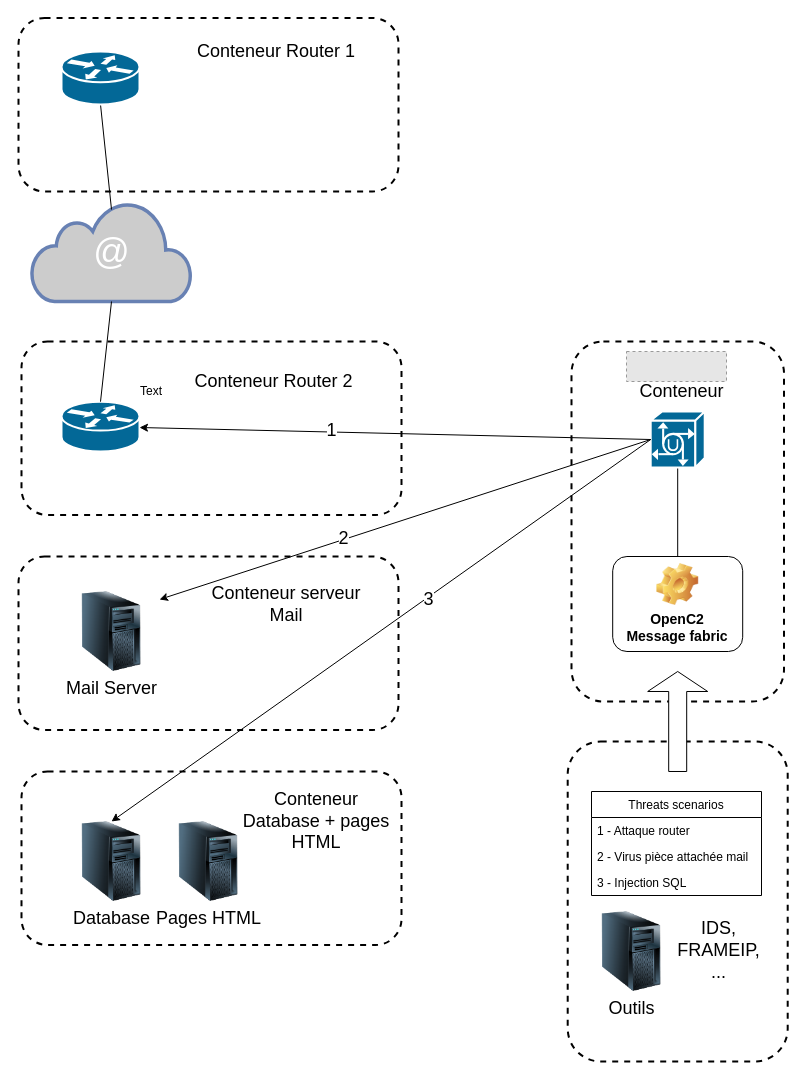
The diagram is 806 pixels wide and 1080 high, and some of its shapes have lost their labels. Grey dashed boxes stand in for pictures. Each missing label, with the centre of its shape:
"OpenC2 Proxy" belongs at pixel 677 439.
"Router 1" belongs at pixel 100 77.
"Router 2" belongs at pixel 100 426.
